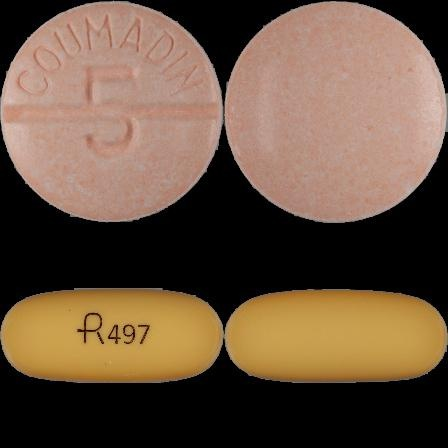54868-1259: (0, 0, 224, 224)
